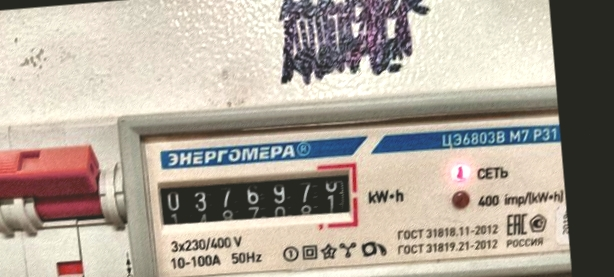0: (165, 189, 180, 213)
1: (324, 193, 337, 214)
3: (192, 190, 209, 213)
6: (243, 182, 260, 206)
7: (216, 185, 233, 209), (297, 180, 313, 204)
9: (269, 182, 286, 206)
screen: (147, 157, 364, 248)
